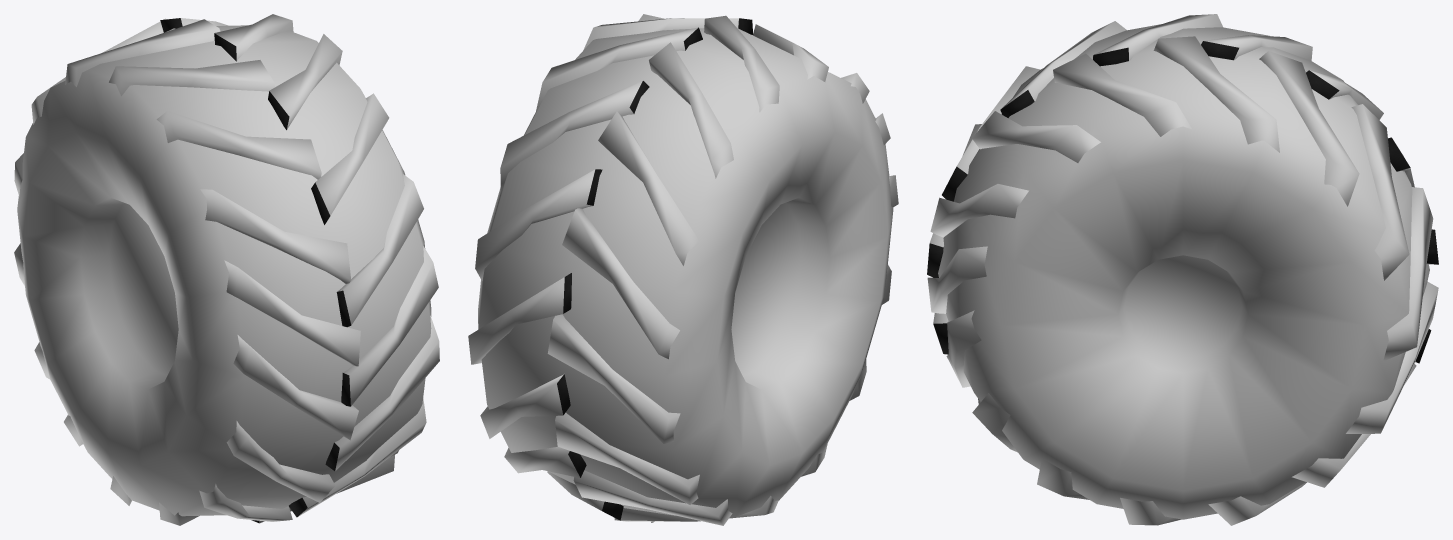
File: MonsterTruck_Wheel4_BR_fbx.fbx
3 views of the same model, side by side, from view 1: azimuth 30°, elevation 25°; view 2: azimuth 150°, elevation 25°; view 3: azimuth 270°, elevation 25° (orthographic).
Parts seen in each view (by area): view 1: BR; view 2: BR; view 3: BR.
Boxes of the visible parts, x1,y1,x2,y2 form: BR: (14, 14, 439, 525); BR: (468, 14, 898, 525); BR: (927, 14, 1438, 525).
Size of the model in its own units: 1.7 by 3.28 by 3.29.
